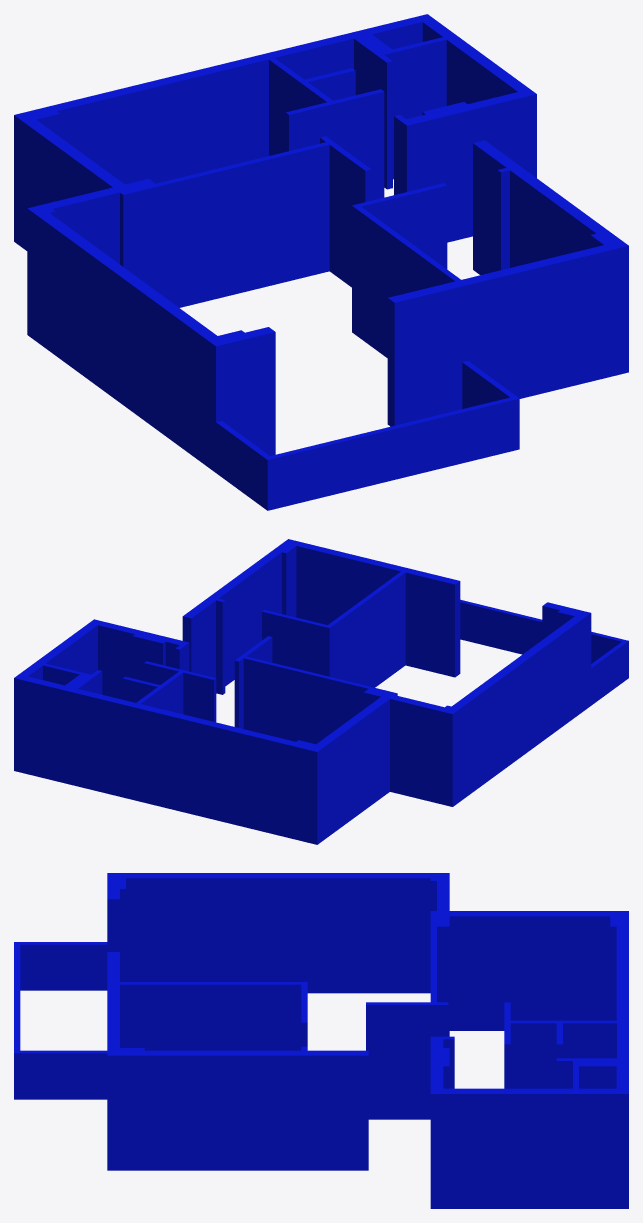
Rendered from to3dARGLB1.glb.
The picture shows the model from 3 angles, top to bottom: view 1: azimuth 30°, elevation 25°; view 2: azimuth 150°, elevation 25°; view 3: azimuth 270°, elevation 25°; orthographic projection. The views are drawn at different scales.
Parts seen in each view (by area): view 1: 0_curve_; view 2: 0_curve_; view 3: 0_curve_.
Part boxes in pixels (x1=…): 0_curve_: x1=14, y1=14, x2=628, y2=510; 0_curve_: x1=14, y1=539, x2=628, y2=844; 0_curve_: x1=14, y1=873, x2=628, y2=1208.
Bounding box in the file's own units: 8.39 × 2.03 × 9.87.
